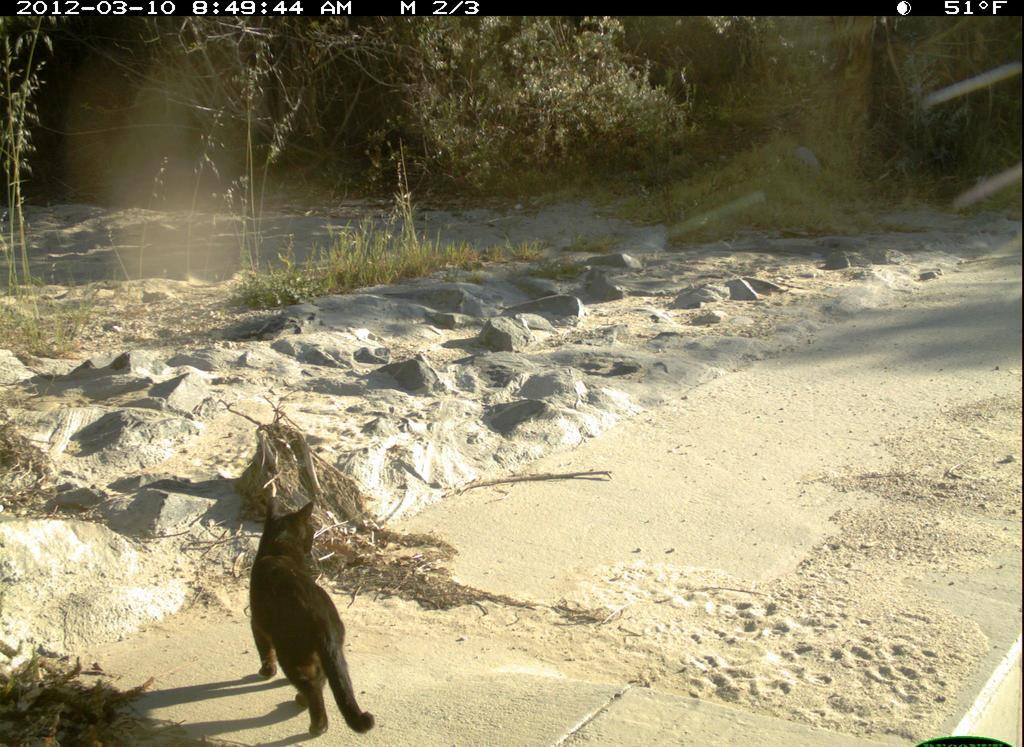cat: (250, 496, 377, 746)
